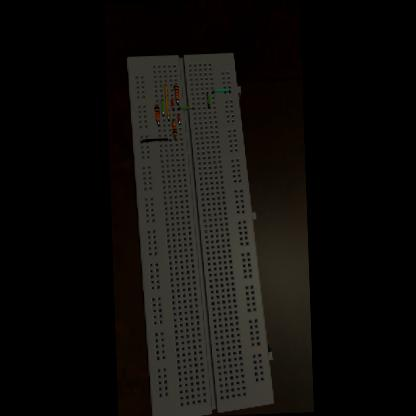breadboard: (125, 52, 274, 416)
resistor: (152, 107, 158, 122), (171, 121, 176, 135), (174, 86, 178, 100)
wire: (140, 139, 170, 144), (165, 84, 168, 121), (211, 89, 229, 94), (176, 107, 192, 112), (160, 99, 163, 116), (206, 92, 209, 108), (170, 98, 172, 110), (177, 113, 179, 124), (176, 100, 177, 106), (174, 136, 175, 140), (172, 119, 174, 120), (155, 105, 156, 107), (174, 84, 175, 84), (158, 121, 158, 126)
